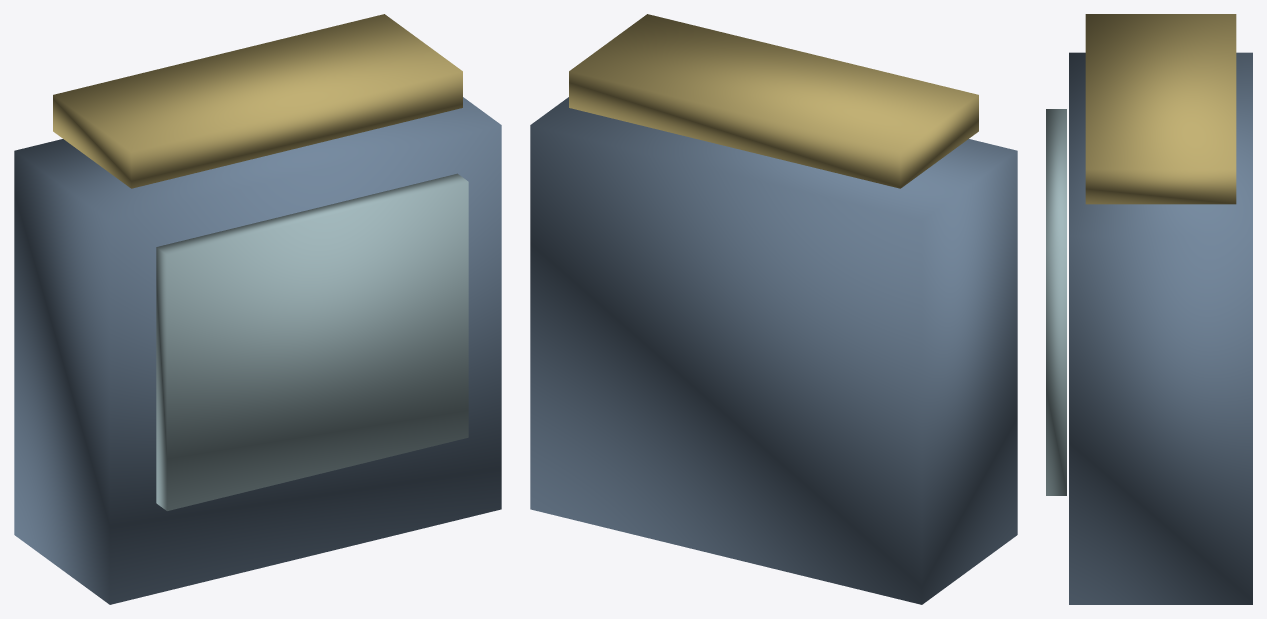
File: lottery_counter_display__tall.glb
The picture shows the model from 3 angles, left to right: view 1: azimuth 30°, elevation 25°; view 2: azimuth 150°, elevation 25°; view 3: azimuth 270°, elevation 25°; orthographic projection. The views are drawn at different scales.
Visible parts, largest first — view 1: world; view 2: world; view 3: world.
Boxes of the visible parts, left/top/right/bottom form: world: left=14, top=14, right=501, bottom=604; world: left=530, top=14, right=1017, bottom=604; world: left=1046, top=14, right=1252, bottom=604.
Size of the model in its own units: 0.52 by 0.5568 by 0.2475.
